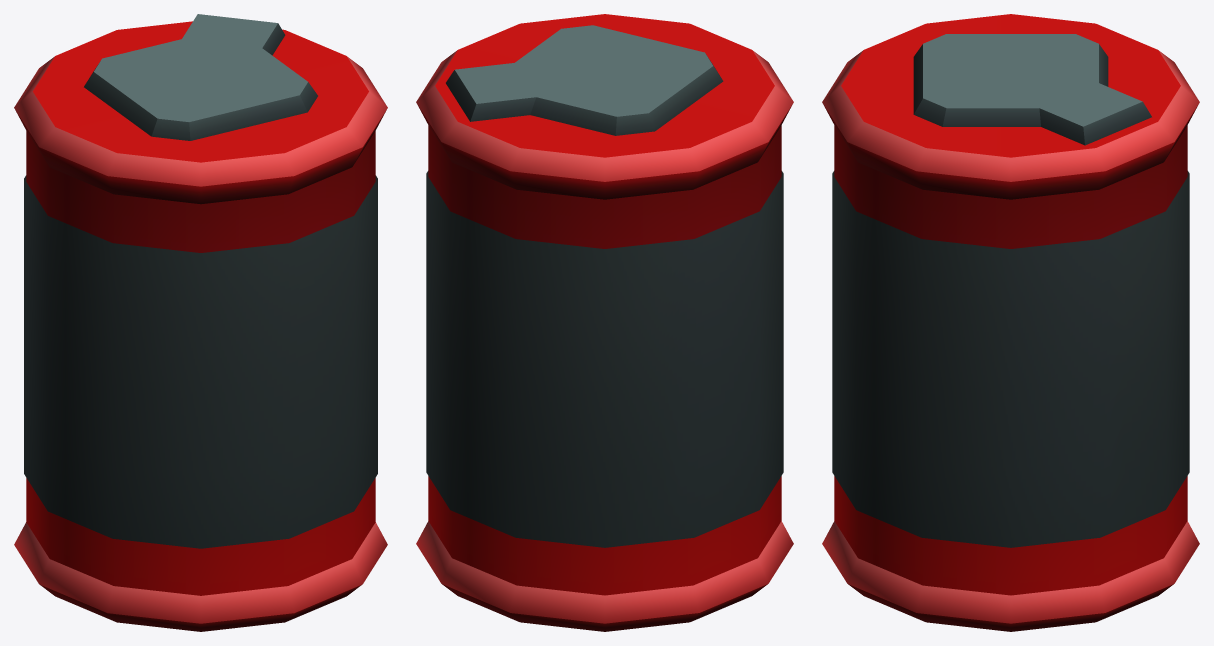
Rendered from Barrel_2B.fbx.
The picture shows the model from 3 angles, left to right: view 1: azimuth 30°, elevation 25°; view 2: azimuth 150°, elevation 25°; view 3: azimuth 270°, elevation 25°; orthographic projection.
Visible parts, largest first — view 1: Barrel_2B; view 2: Barrel_2B; view 3: Barrel_2B.
Part boxes in pixels (x1,y1,x2,y2): Barrel_2B: [14, 14, 387, 631]; Barrel_2B: [416, 14, 793, 631]; Barrel_2B: [822, 14, 1199, 631].
Size of the model in its own units: 86.64 by 124 by 86.64.
